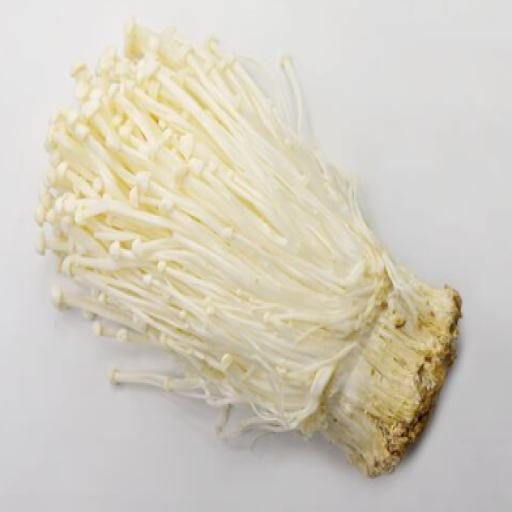Enoki Mushroom: (34, 15, 469, 475)
